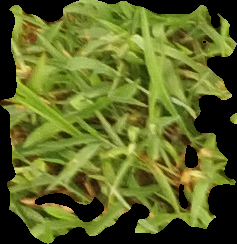grass: (1, 1, 236, 242)
